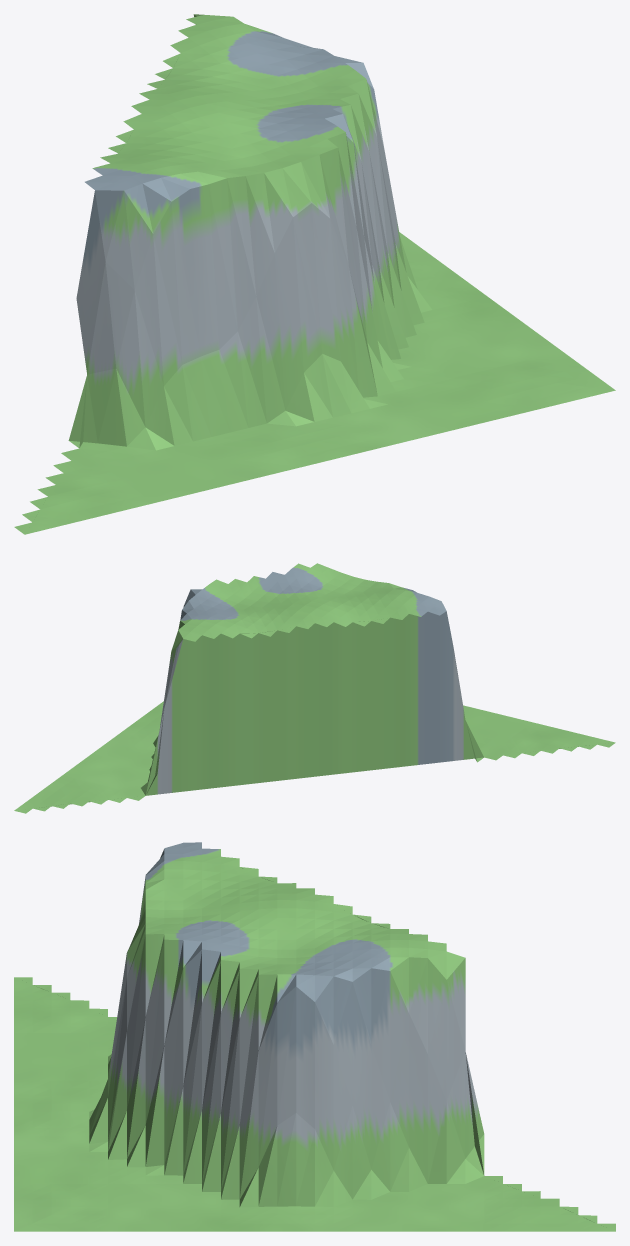
Rendered from Grass_RockyMountains_08_NE.obj.
The picture shows the model from 3 angles, top to bottom: view 1: azimuth 30°, elevation 25°; view 2: azimuth 150°, elevation 25°; view 3: azimuth 270°, elevation 25°; orthographic projection. The views are drawn at different scales.
Size of the model in its own units: 10 by 3.89 by 10.
Materials: 1 (1 with a texture image).
